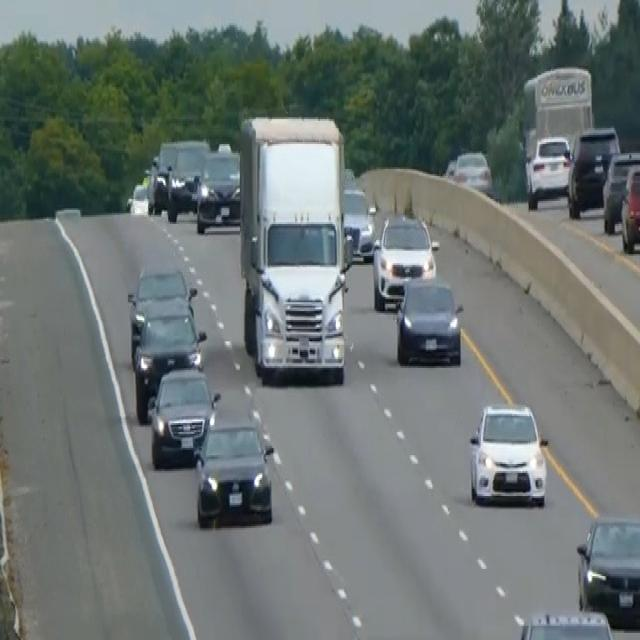car: (192, 402, 275, 530), (132, 297, 207, 421), (467, 398, 548, 507), (147, 362, 219, 468), (575, 512, 639, 626), (126, 263, 196, 361), (371, 210, 438, 311), (394, 274, 463, 366), (566, 122, 620, 218), (195, 142, 241, 233), (164, 138, 209, 220), (524, 132, 571, 206), (511, 606, 619, 638), (601, 147, 639, 233), (342, 185, 374, 258), (451, 147, 493, 195), (619, 160, 639, 252), (145, 155, 171, 213), (125, 180, 150, 215)
lorry: (237, 112, 352, 384)
